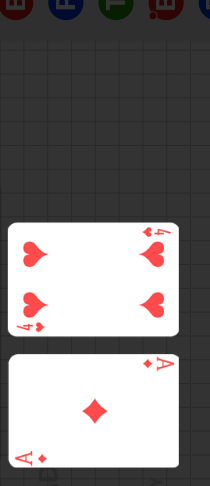4H: (140, 226, 172, 240)
AD: (14, 448, 50, 466)
